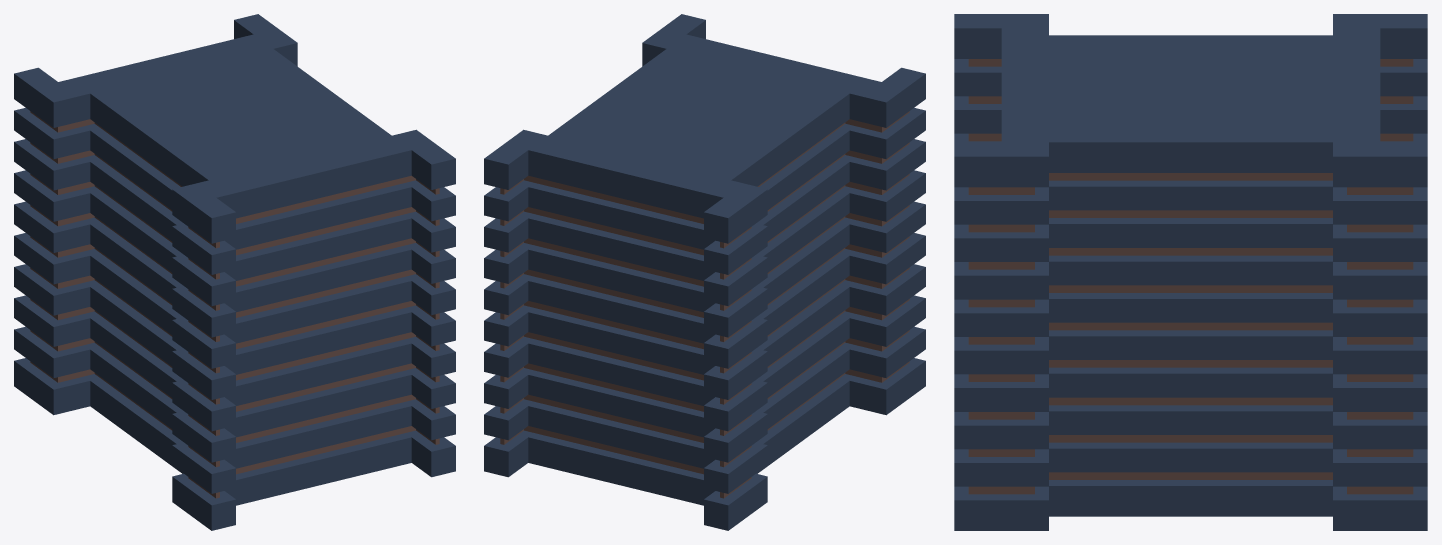
The picture shows the model from 3 angles, left to right: view 1: azimuth 30°, elevation 25°; view 2: azimuth 150°, elevation 25°; view 3: azimuth 270°, elevation 25°; orthographic projection. The views are drawn at different scales.
Visible parts, largest first — view 1: Cube.002; view 2: Cube.002; view 3: Cube.002.
Boxes of the visible parts, bbox=[...] form: Cube.002: bbox=[14, 14, 455, 530]; Cube.002: bbox=[484, 14, 925, 530]; Cube.002: bbox=[954, 14, 1427, 530].
Bounding box in the file's own units: 2.24 × 2.74 × 3.13.
